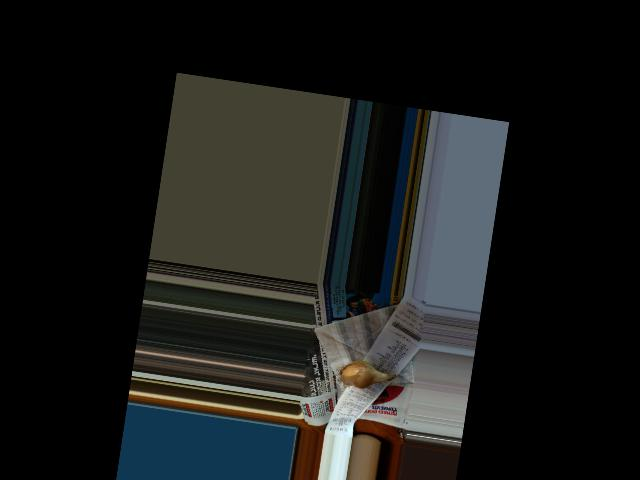onion: (339, 358, 391, 389)
